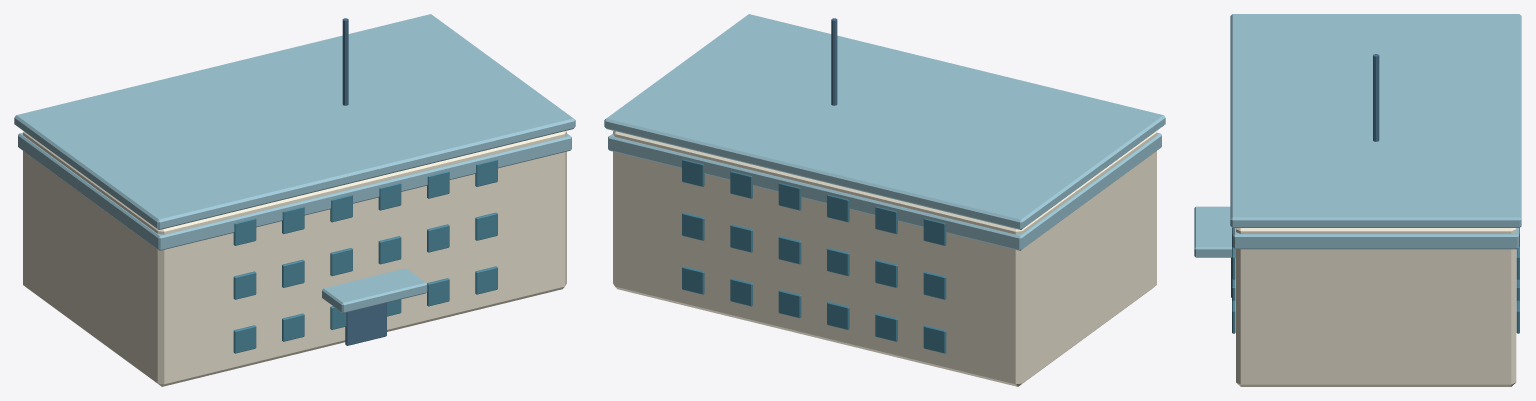
File: CIV_POLICE_3x2_002.glb
3 views of the same model, side by side, from view 1: azimuth 30°, elevation 25°; view 2: azimuth 150°, elevation 25°; view 3: azimuth 270°, elevation 25° (orthographic).
Parts seen in each view (by area): view 1: CIV_POLICE_3x2_002_Visual; view 2: CIV_POLICE_3x2_002_Visual; view 3: CIV_POLICE_3x2_002_Visual.
Part boxes in pixels (x1,y1,x2,y2): CIV_POLICE_3x2_002_Visual: (14, 14, 575, 386); CIV_POLICE_3x2_002_Visual: (604, 14, 1165, 386); CIV_POLICE_3x2_002_Visual: (1194, 14, 1521, 386).
Size of what is drawn, in the model's own units: 5.37 by 3.15 by 3.62.
